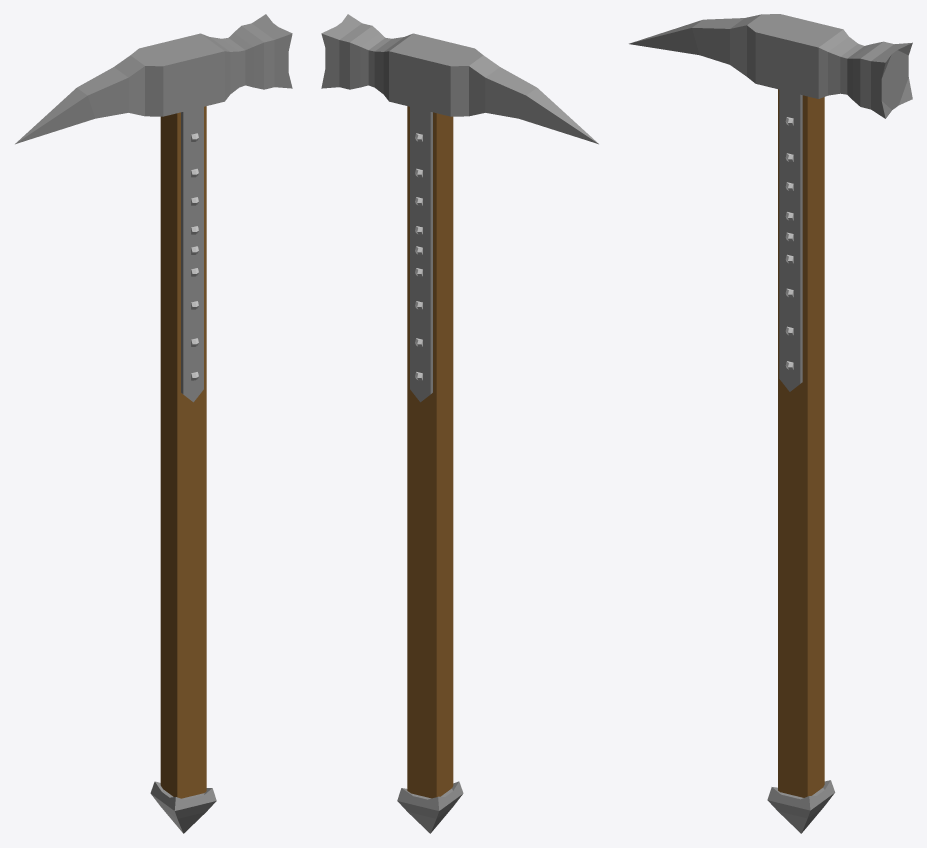
Rendered from WarHammer.fbx.
The picture shows the model from 3 angles, left to right: view 1: azimuth 30°, elevation 25°; view 2: azimuth 150°, elevation 25°; view 3: azimuth 330°, elevation 25°; orthographic projection. The views are drawn at different scales.
Visible parts, largest first — view 1: Cube, Cube.001, Cube.003, Cube.004, Cube.002; view 2: Cube, Cube.001, Cube.003, Cube.004, Cube.002; view 3: Cube, Cube.001, Cube.003, Cube.004, Cube.002.
Boxes of the visible parts, x1,y1,x2,y2 form: Cube: [160, 106, 206, 798]; Cube.001: [15, 14, 292, 144]; Cube.003: [181, 107, 203, 402]; Cube.004: [150, 781, 216, 833]; Cube.002: [191, 133, 198, 380]; Cube: [407, 106, 453, 798]; Cube.001: [321, 14, 598, 144]; Cube.003: [410, 107, 432, 402]; Cube.004: [397, 781, 463, 833]; Cube.002: [415, 133, 422, 380]; Cube: [778, 89, 824, 797]; Cube.001: [629, 14, 912, 118]; Cube.003: [779, 89, 802, 391]; Cube.004: [767, 780, 835, 833]; Cube.002: [785, 117, 793, 369].
Size of the model in its own units: 772 by 2190 by 134.
